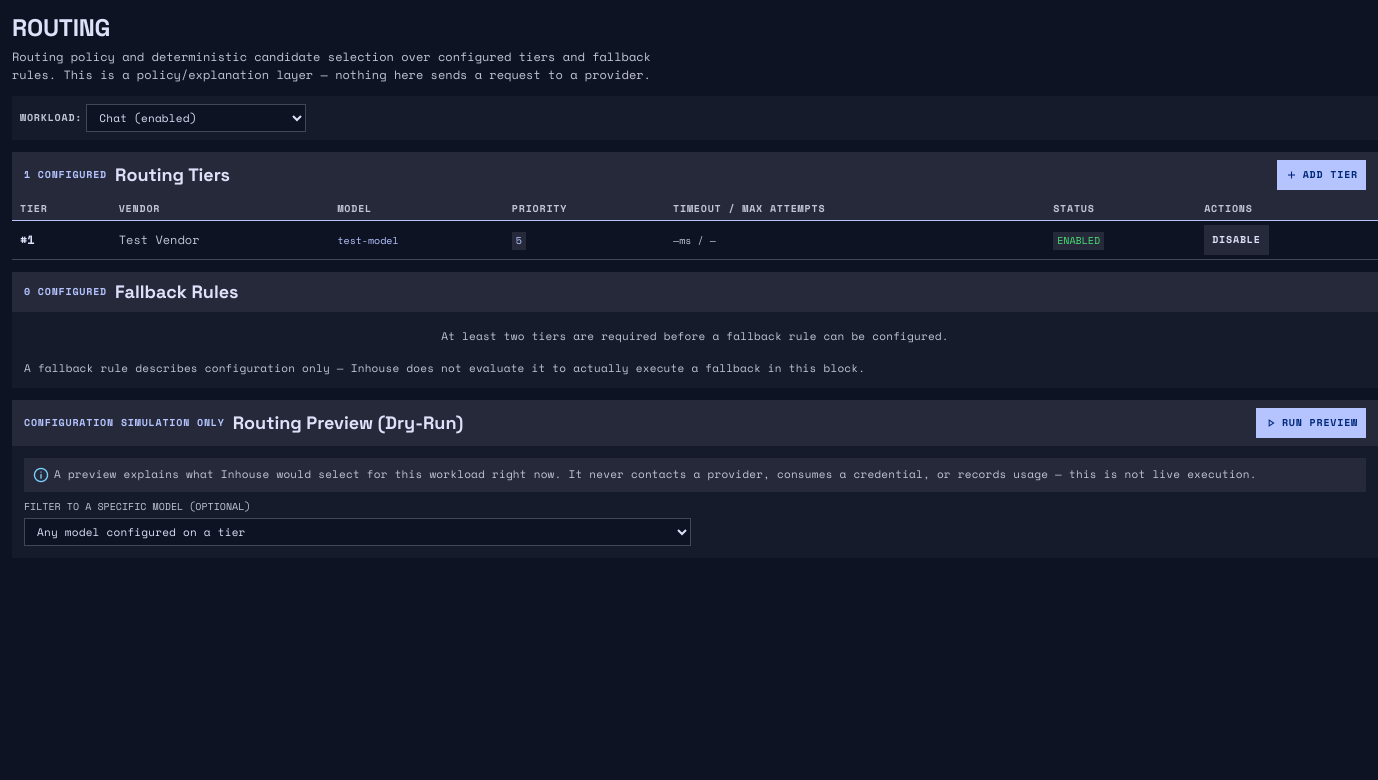
it: Routing page › a failed preview surfaces the API error message without crashing
Check: the text "#1" is shown, box x1=20 y1=231 x2=35 y2=248
Click the button "Run Preview".
click(1311, 423)  # box x1=1256 y1=408 x2=1366 y2=438
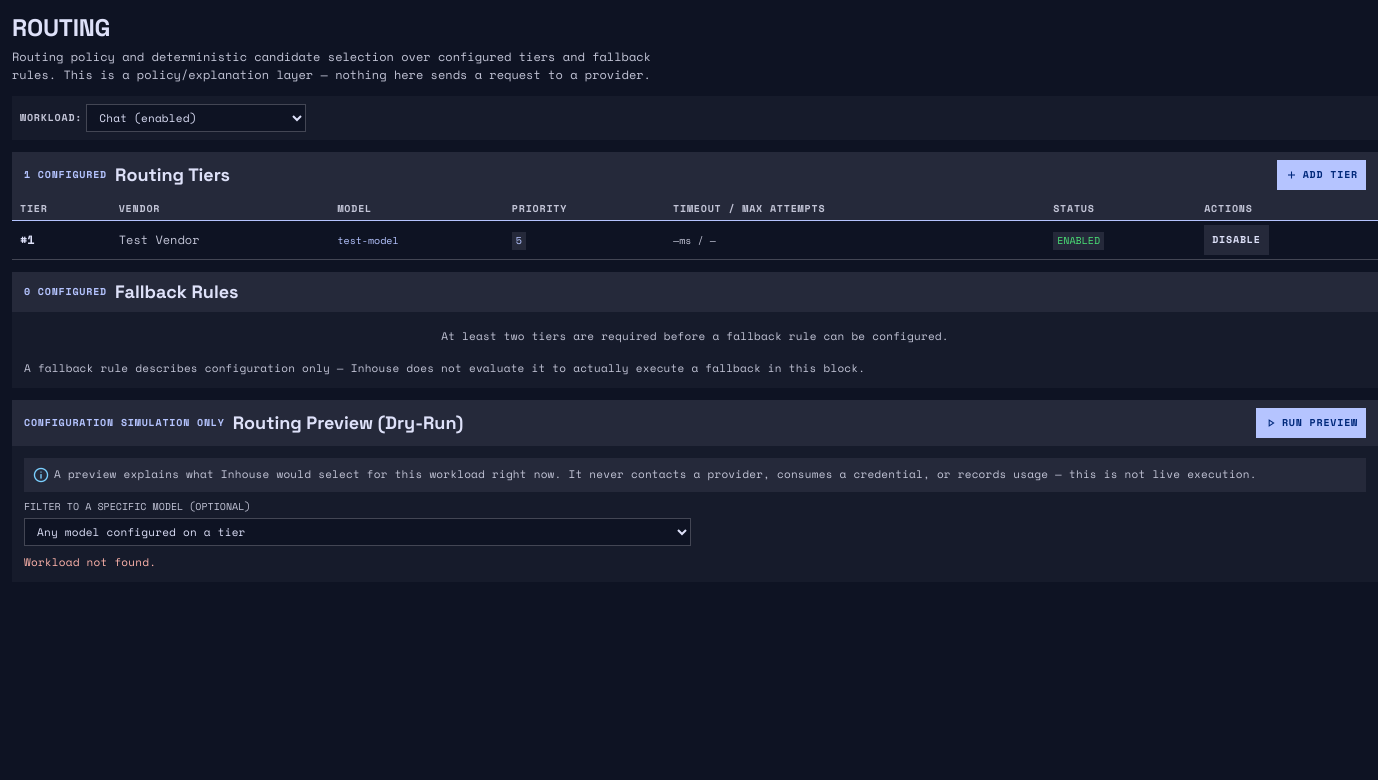
Check: the text "Workload not found." is shown, box x1=24 y1=554 x2=156 y2=570
